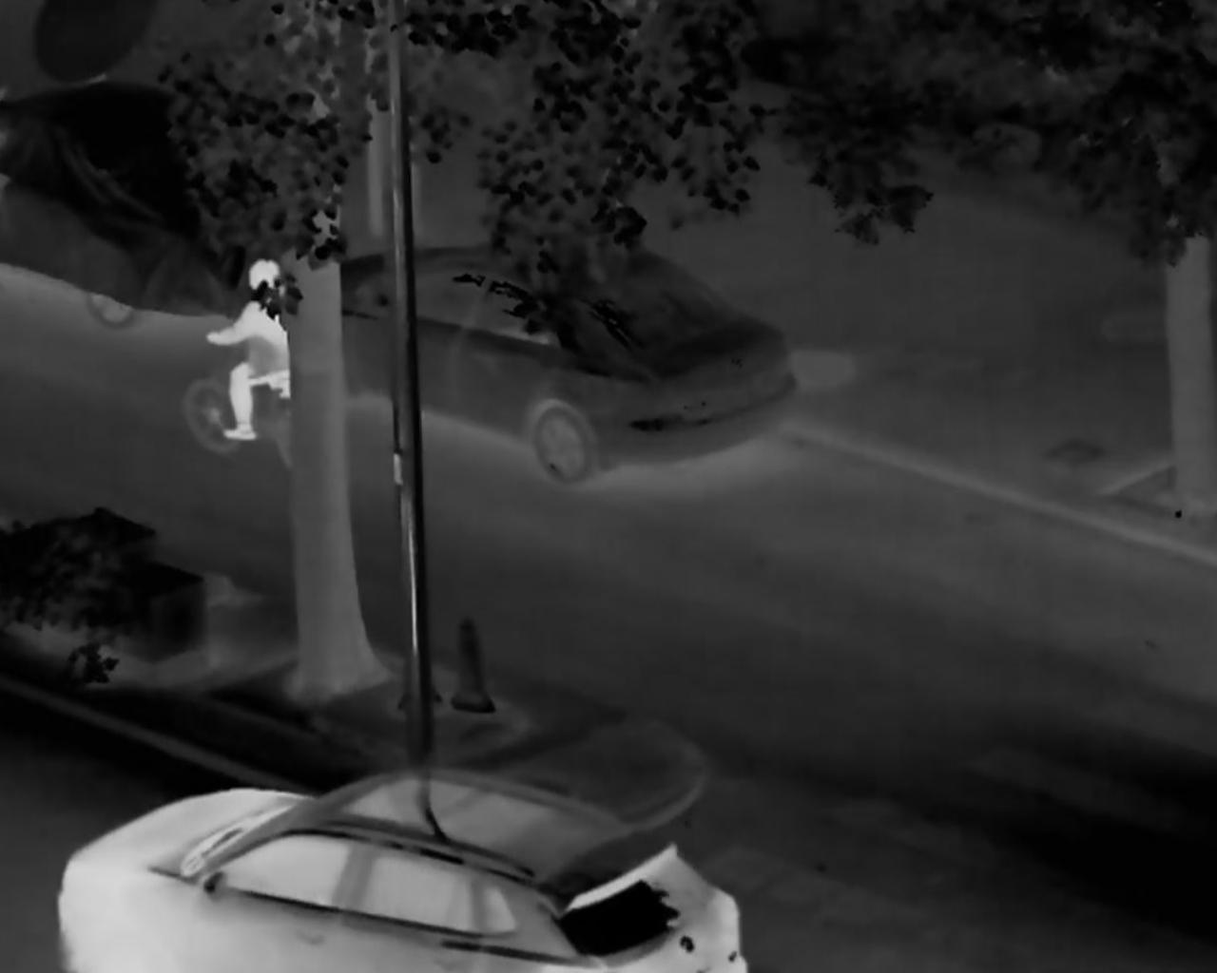person: (206, 258, 301, 446)
